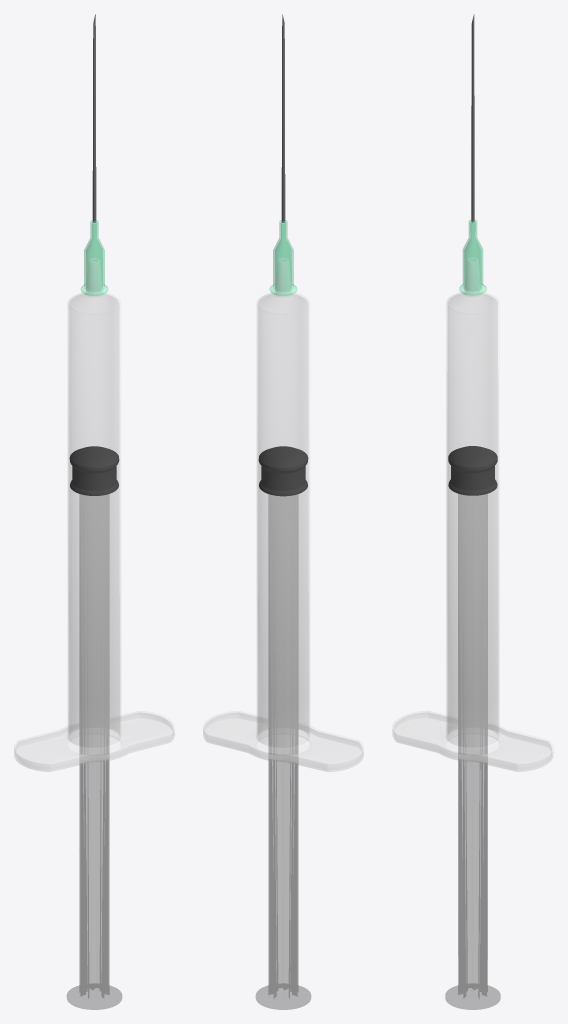
Rendered from syringe.glb.
3 views of the same model, side by side, from view 1: azimuth 30°, elevation 25°; view 2: azimuth 150°, elevation 25°; view 3: azimuth 330°, elevation 25° (orthographic).
Visible parts, largest first — view 1: Cylindrical barrel, Plunger, Tip; view 2: Cylindrical barrel, Plunger, Tip; view 3: Cylindrical barrel, Plunger, Tip.
Part boxes in pixels (left/top/right/bottom): Cylindrical barrel: left=14, top=261, right=174, bottom=771; Plunger: left=67, top=446, right=121, bottom=1009; Tip: left=81, top=14, right=107, bottom=295; Cylindrical barrel: left=203, top=261, right=363, bottom=771; Plunger: left=256, top=446, right=310, bottom=1009; Tip: left=270, top=14, right=296, bottom=295; Cylindrical barrel: left=392, top=260, right=553, bottom=771; Plunger: left=445, top=446, right=500, bottom=1009; Tip: left=459, top=14, right=486, bottom=295.
Size of the model in its own units: 5.61 by 34.98 by 2.51.
